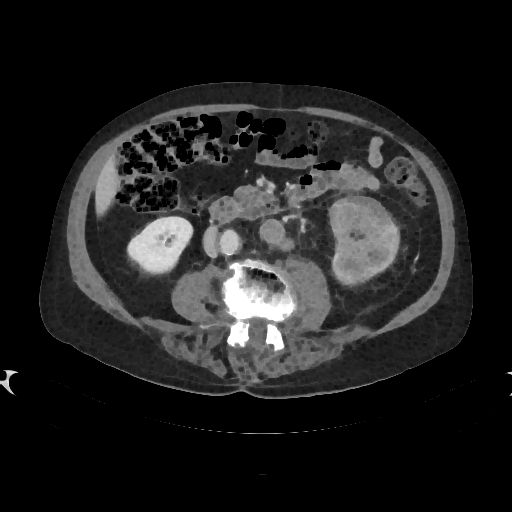Lesion: (329, 195, 398, 281)
